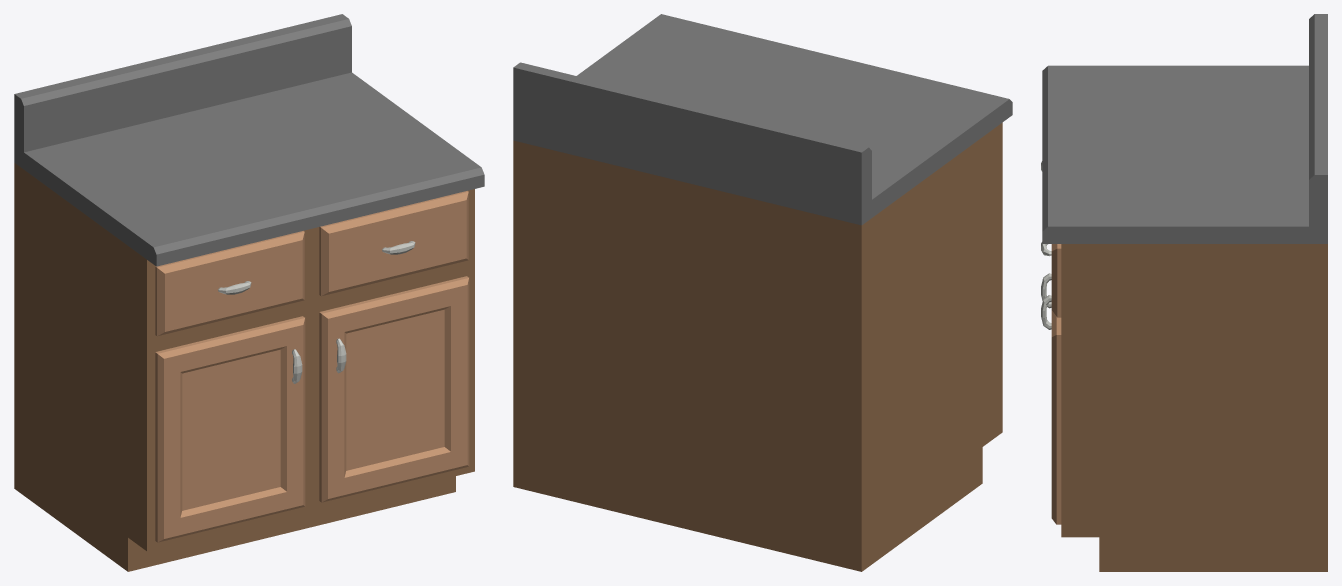
The model's file is Kitchen_Cabinet_Base_Full.obj.
3 views of the same model, side by side, from view 1: azimuth 30°, elevation 25°; view 2: azimuth 150°, elevation 25°; view 3: azimuth 270°, elevation 25° (orthographic). The views are drawn at different scales.
Parts seen in each view (by area): view 1: object6, object3, object8, object10, object2, object7; view 2: object3, object6; view 3: object3, object6, object8, object7.
Part boxes in pixels (x1,y1,x2,y2): object6: [14, 14, 484, 266]; object3: [14, 163, 474, 571]; object8: [319, 276, 469, 502]; object10: [155, 316, 305, 542]; object2: [155, 231, 304, 336]; object7: [319, 191, 468, 296]; object3: [513, 122, 1002, 571]; object6: [513, 14, 1012, 225]; object3: [1061, 244, 1327, 571]; object6: [1042, 14, 1327, 243]; object8: [1051, 310, 1061, 524]; object7: [1051, 244, 1061, 317].
Bounding box in the file's own units: 1 × 1.15 × 0.7531.
